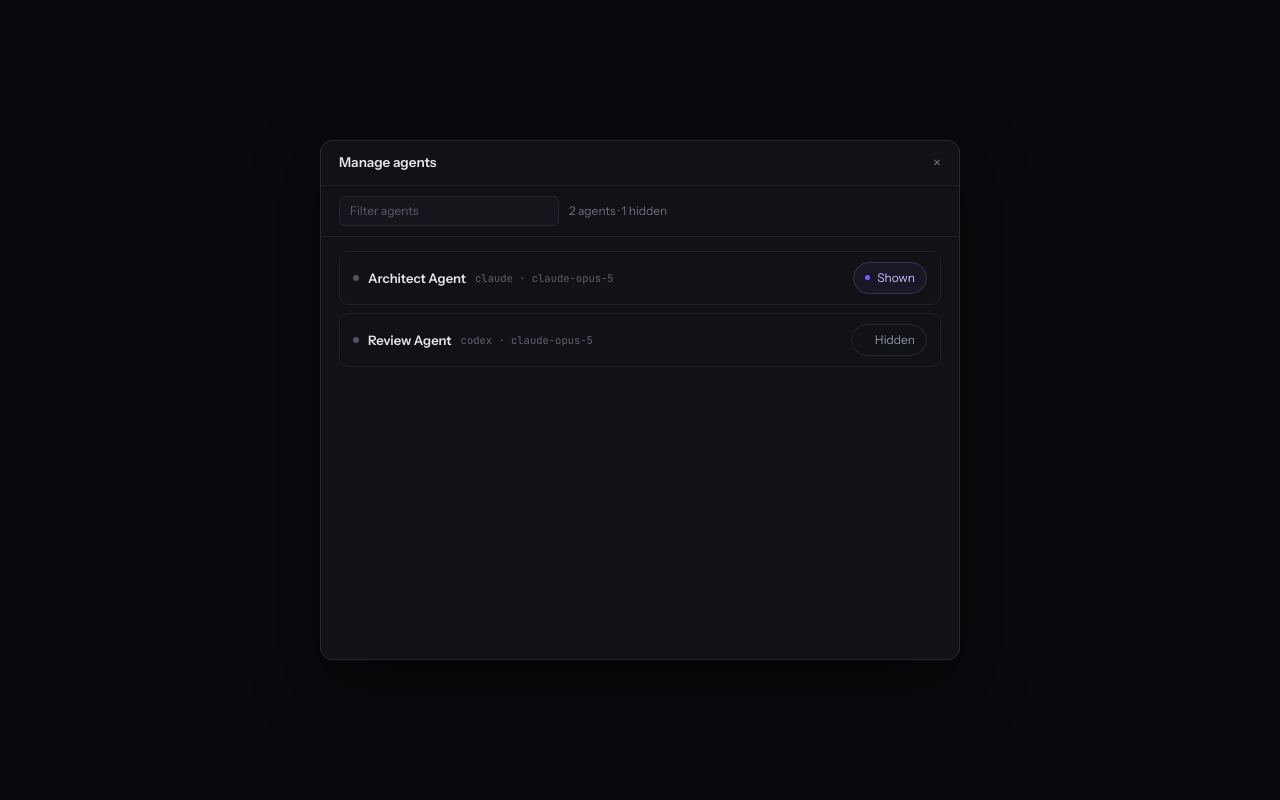
ManageAgentsModal — filtering › narrows the list to the agents whose name matches
This screenshot has width=1280, height=800.
Type "review" into the field labelled "Filter agents" at x=449, y=211, box [339,196,559,226]
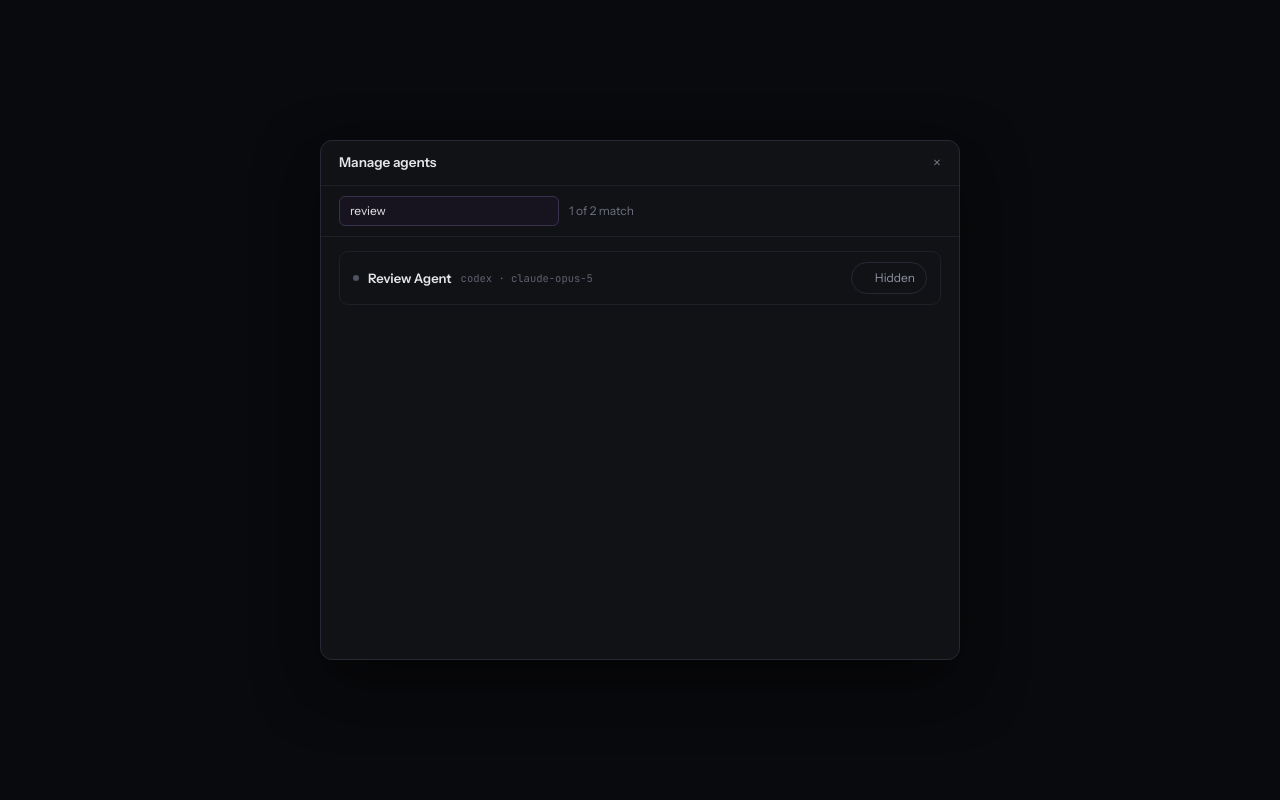
Expected: the text "Review Agent" is shown, [368,269,452,287]
Now the text "Architect Agent" is gone
